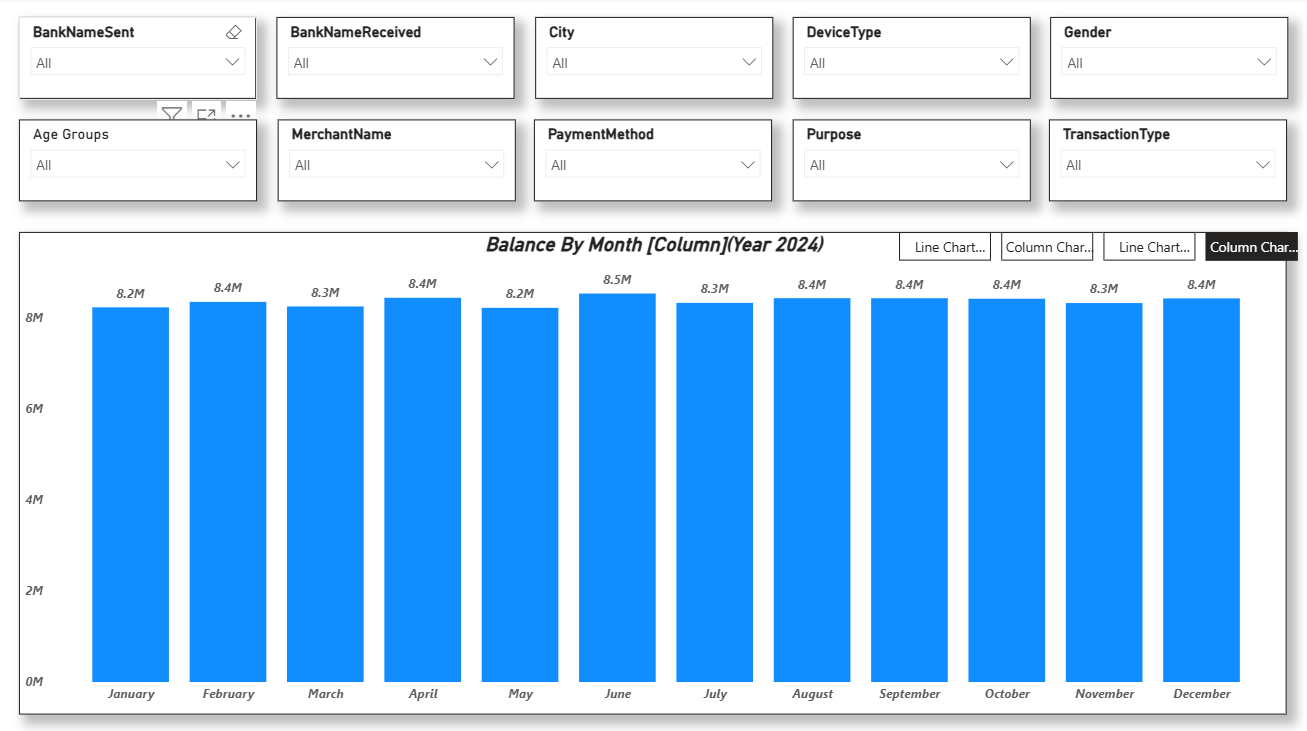

What the dashboard file says about the page in this screenshot:
{"tool":"powerbi","page":{"name":"Page 1","canvas":[1280,720],"ordinal":0},"visuals":[{"type":"slicer","fields":{"Values":["UPI Transactions.BankNameSent"]},"box":[20,20,232,80],"z":0},{"type":"slicer","fields":{"Values":["UPI Transactions.BankNameReceived"]},"box":[272,20,232.5,80],"z":1000},{"type":"slicer","fields":{"Values":["UPI Transactions.City"]},"box":[524,20,232.5,80],"z":2000},{"type":"slicer","fields":{"Values":["UPI Transactions.DeviceType"]},"box":[776,20,232.5,80],"z":3000},{"type":"slicer","fields":{"Values":["UPI Transactions.Gender"]},"box":[1028,20,232.5,80],"z":4000},{"type":"slicer","fields":{"Values":["UPI Transactions.Age Groups"]},"box":[20,120,232.5,80],"z":5000},{"type":"slicer","fields":{"Values":["UPI Transactions.MerchantName"]},"box":[272.5,120,232.5,80],"z":6000},{"type":"slicer","fields":{"Values":["UPI Transactions.PaymentMethod"]},"box":[523.8,120,232.5,80],"z":7000},{"type":"slicer","fields":{"Values":["UPI Transactions.Purpose"]},"box":[776.2,120,232.5,80],"z":8000},{"type":"slicer","fields":{"Values":["UPI Transactions.TransactionType"]},"box":[1027,120,232.5,80],"z":9000},{"type":"columnChart","title":"Balance By Month [Column](Year 2024)","fields":{"Category":["UPI Transactions.TransactionDate.Variation.Date Hierarchy.Month"],"Y":["Sum(UPI Transactions.RemainingBalance)"]},"box":[20,230,1240,471.7],"z":12000},{"type":"bookmarkNavigator","box":[880,230,390,28.3],"z":14000}]}

Visuals, with their boxes in screenshot pixels (x1, y1, x2, y2), scaled from the page's 1280x720 canvas onto the 1307x731 screenshot:
slicer - UPI Transactions.BankNameSent: [x1=20, y1=20, x2=257, y2=102]
slicer - UPI Transactions.BankNameReceived: [x1=278, y1=20, x2=515, y2=102]
slicer - UPI Transactions.City: [x1=535, y1=20, x2=772, y2=102]
slicer - UPI Transactions.DeviceType: [x1=792, y1=20, x2=1030, y2=102]
slicer - UPI Transactions.Gender: [x1=1050, y1=20, x2=1287, y2=102]
slicer - UPI Transactions.Age Groups: [x1=20, y1=122, x2=258, y2=203]
slicer - UPI Transactions.MerchantName: [x1=278, y1=122, x2=516, y2=203]
slicer - UPI Transactions.PaymentMethod: [x1=535, y1=122, x2=772, y2=203]
slicer - UPI Transactions.Purpose: [x1=793, y1=122, x2=1030, y2=203]
slicer - UPI Transactions.TransactionType: [x1=1049, y1=122, x2=1286, y2=203]
"Balance By Month [Column](Year 2024)" columnChart: [x1=20, y1=234, x2=1287, y2=712]
bookmarkNavigator: [x1=899, y1=234, x2=1297, y2=262]
